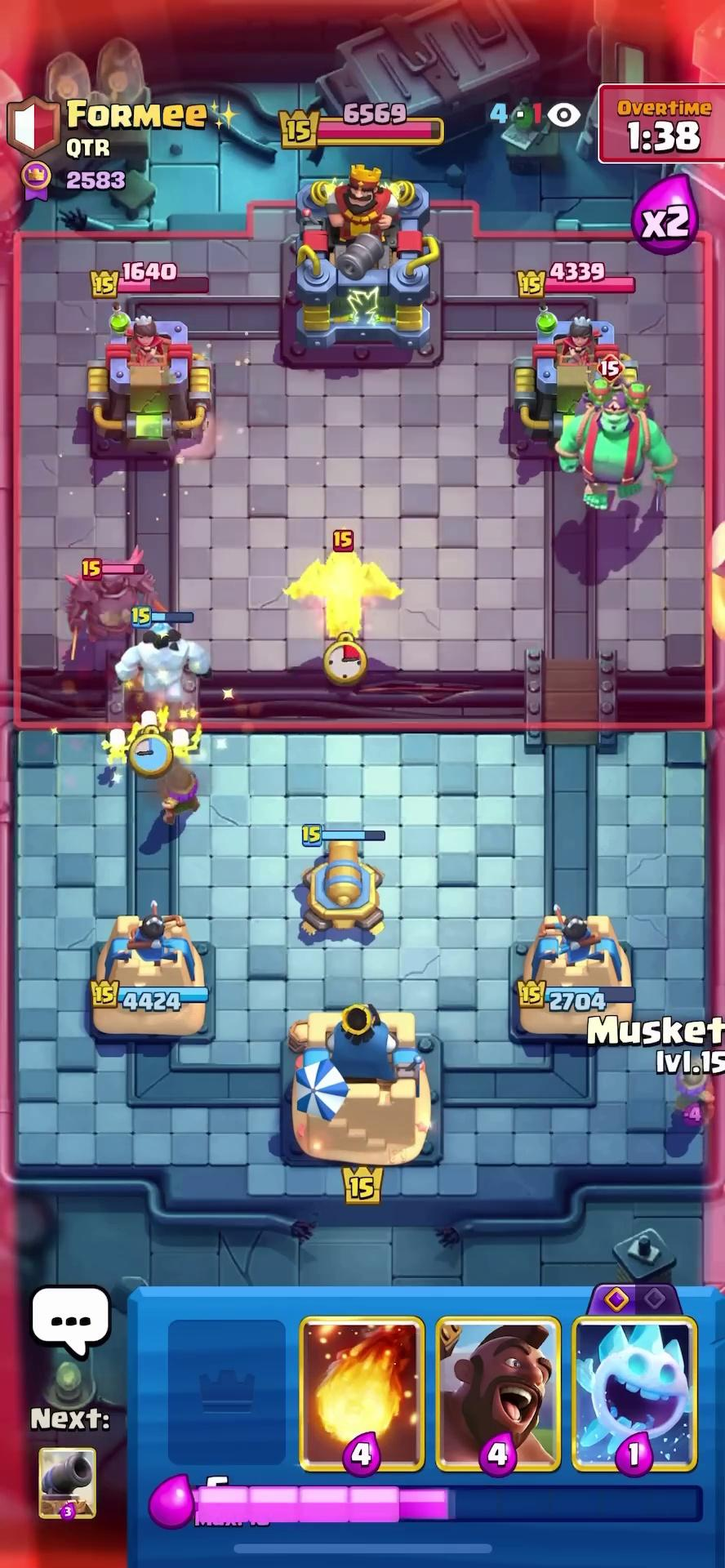ice_golem: (296, 821, 394, 937), (106, 615, 202, 706)
musketeer: (135, 749, 210, 837)
skeletons: (98, 708, 206, 762)
